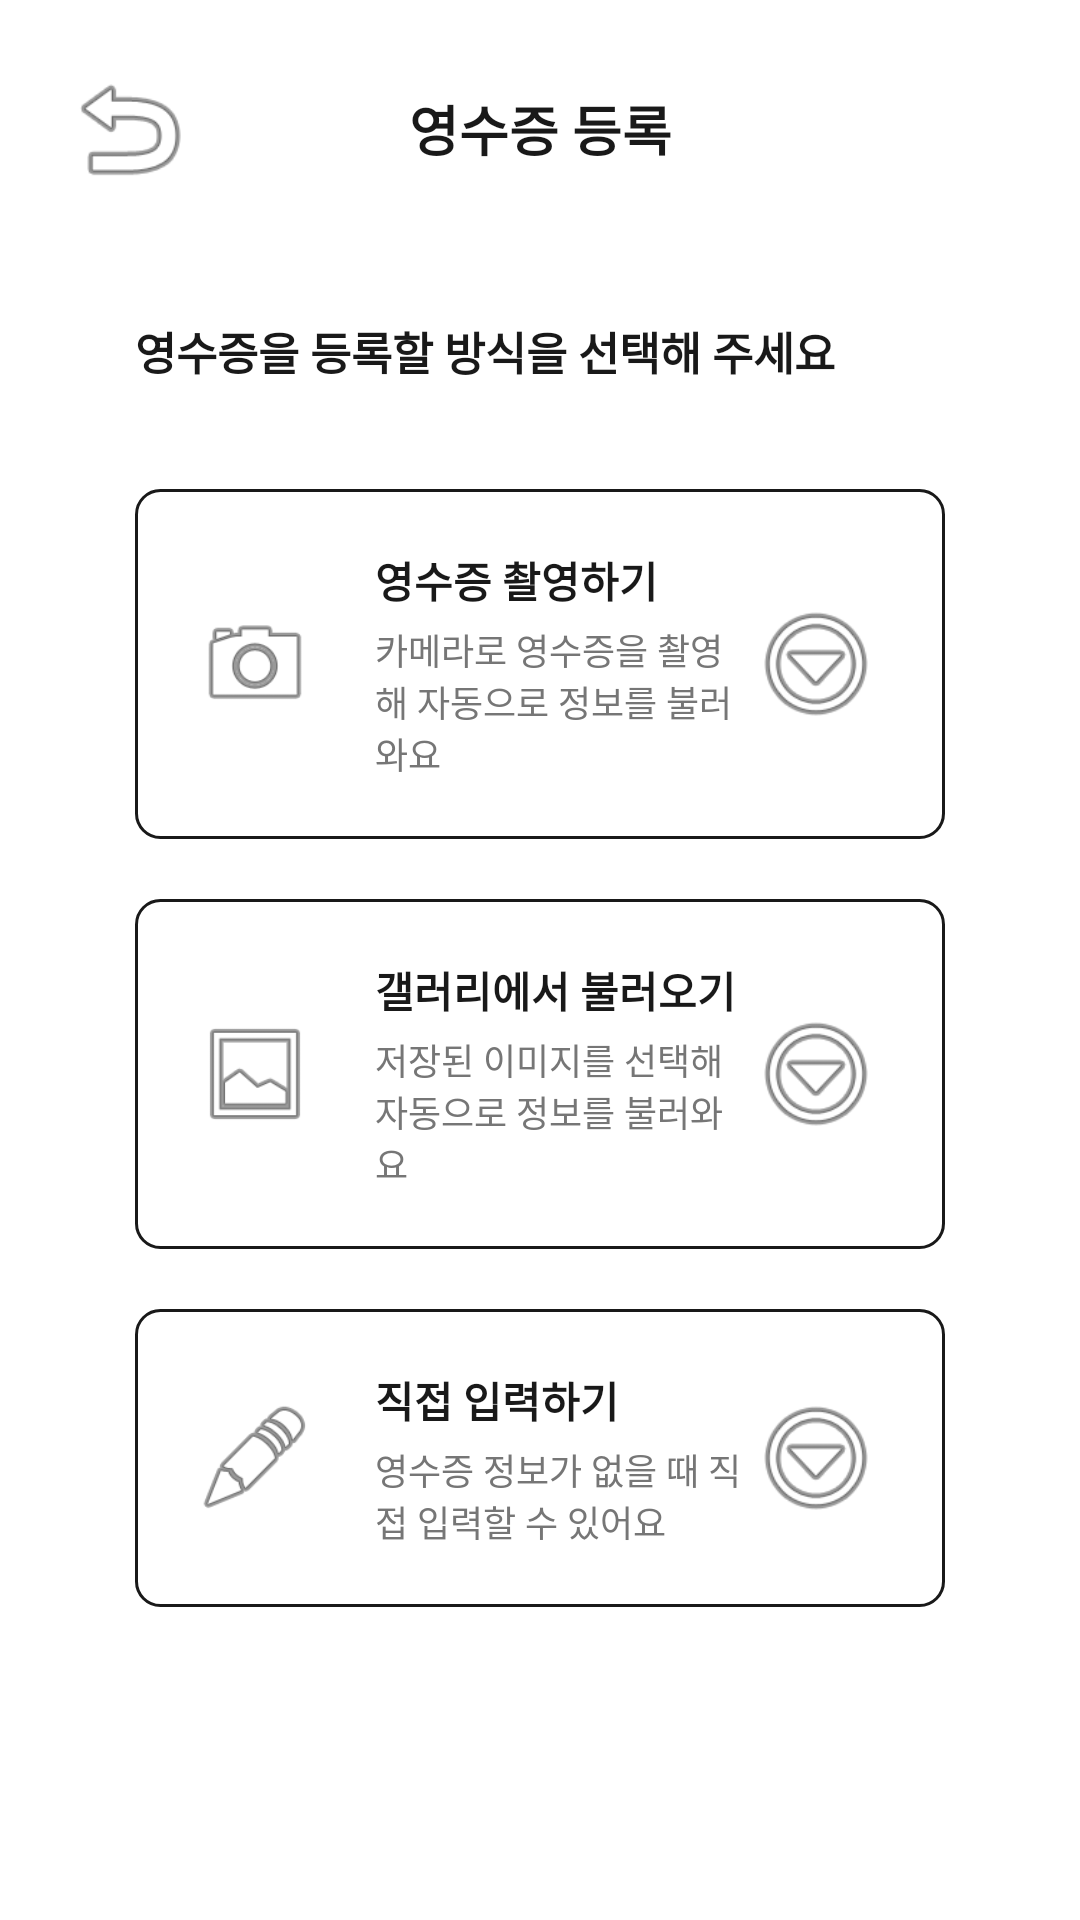

Named icons in this screenshot (1080px x 1920px) and their bounding boxes, (x1, y1, x2, y2):
갤러리 아이콘: (210, 1029, 300, 1119)
뒤로가기: (81, 85, 181, 175)
직접 입력 아이콘: (204, 1406, 305, 1508)
촬영 아이콘: (209, 625, 301, 699)
